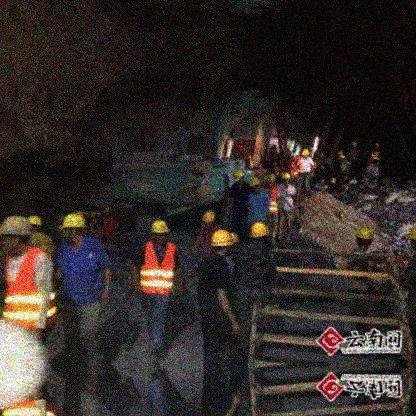helmet: (1, 217, 31, 259), (59, 217, 87, 243), (213, 233, 231, 260), (355, 227, 374, 251), (150, 223, 169, 246), (249, 225, 269, 246), (406, 228, 416, 253), (29, 216, 42, 234), (247, 179, 261, 194), (232, 172, 245, 188), (281, 175, 291, 187), (267, 175, 276, 188)
